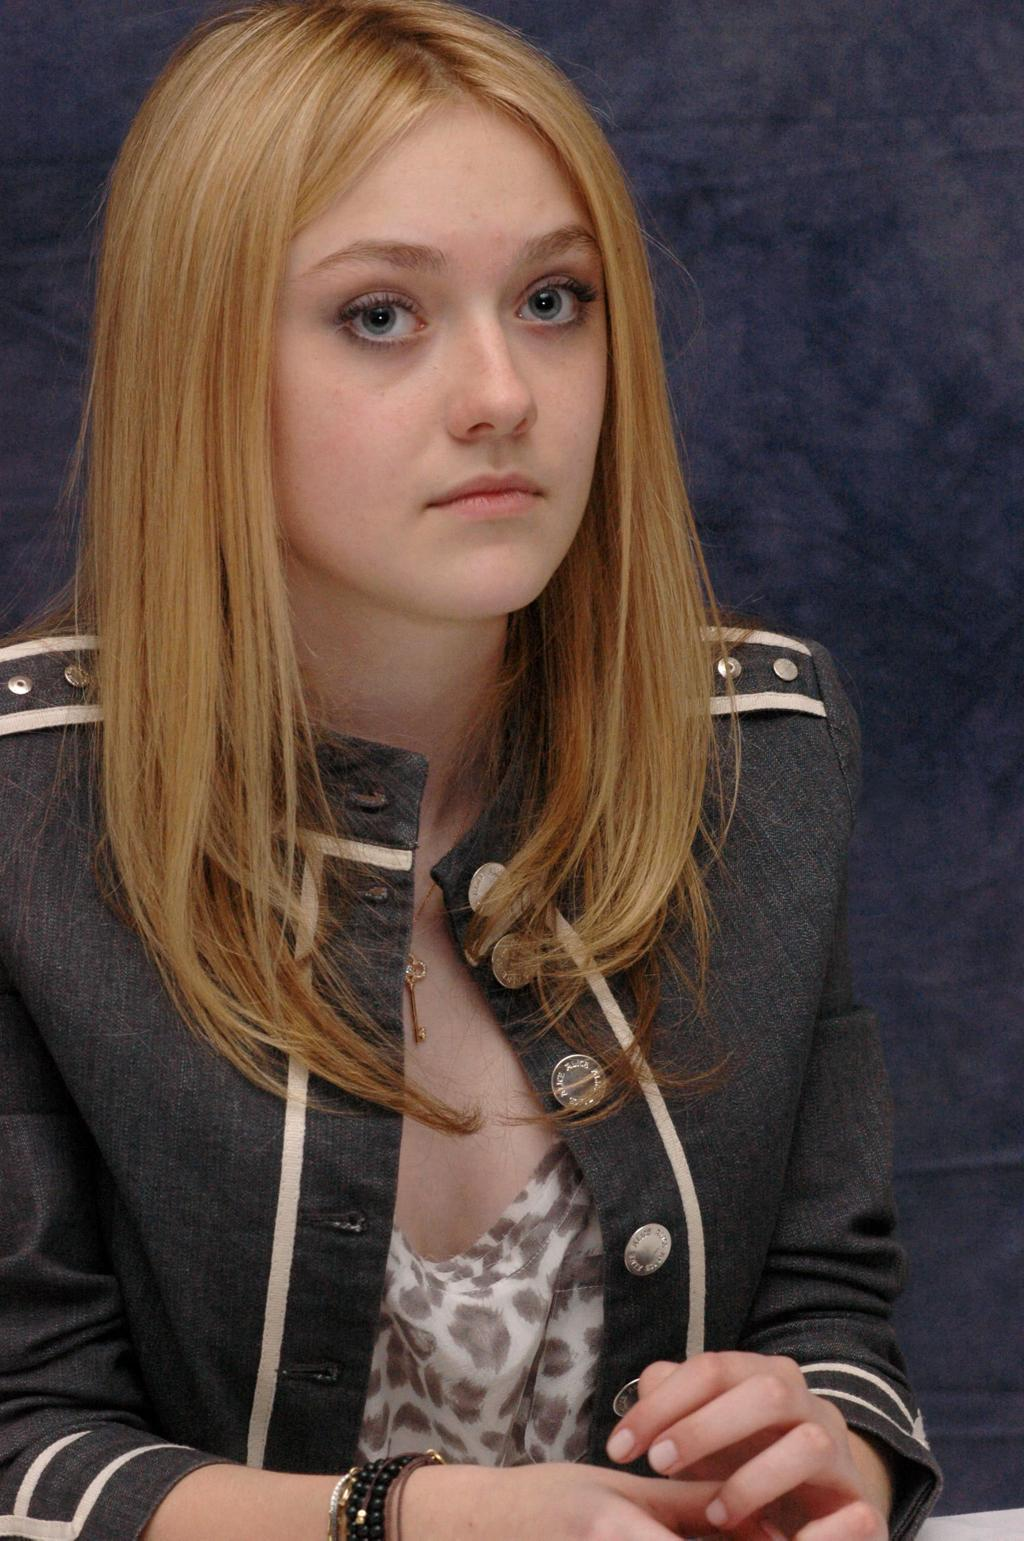face: (269, 97, 612, 618)
